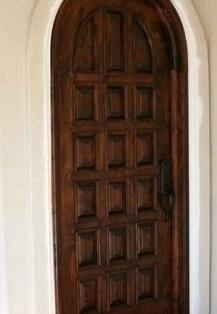door: (55, 0, 178, 313)
